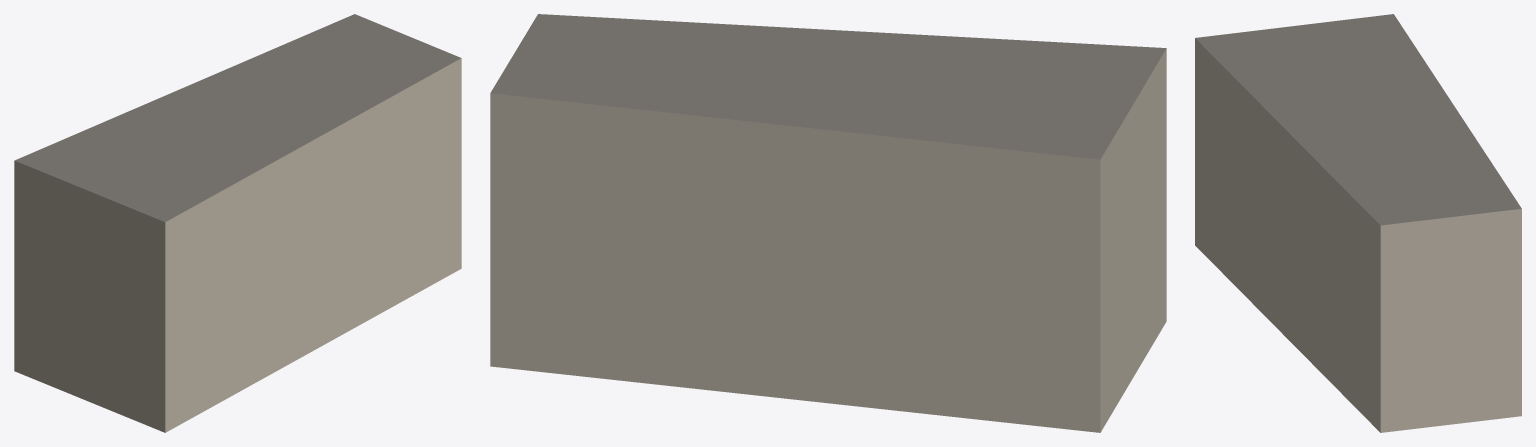
The picture shows the model from 3 angles, left to right: view 1: azimuth 30°, elevation 25°; view 2: azimuth 150°, elevation 25°; view 3: azimuth 270°, elevation 25°; orthographic projection. The views are drawn at different scales.
Parts seen in each view (by area): view 1: HP-w378107089; view 2: HP-w378107089; view 3: HP-w378107089.
Boxes of the visible parts, x1,y1,x2,y2 form: HP-w378107089: (14,14,461,432); HP-w378107089: (490,14,1166,432); HP-w378107089: (1195,14,1521,432).
Size of the model in its own units: 39.37 by 18 by 25.71.
